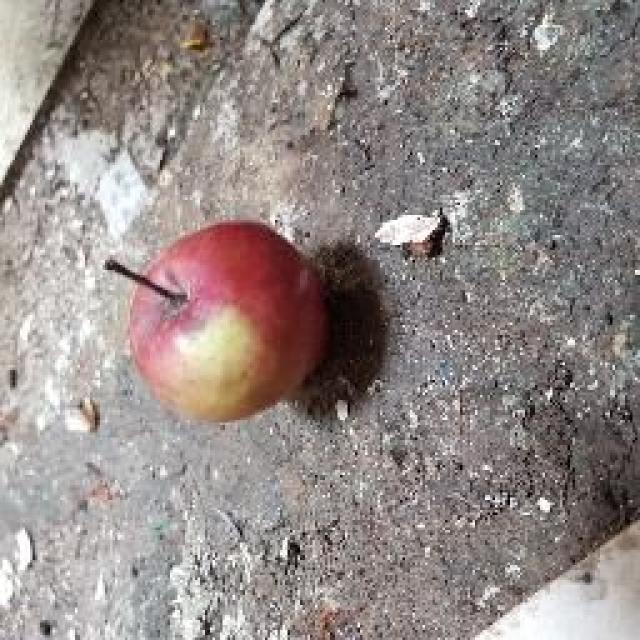Good_Apple: (105, 220, 335, 428)
